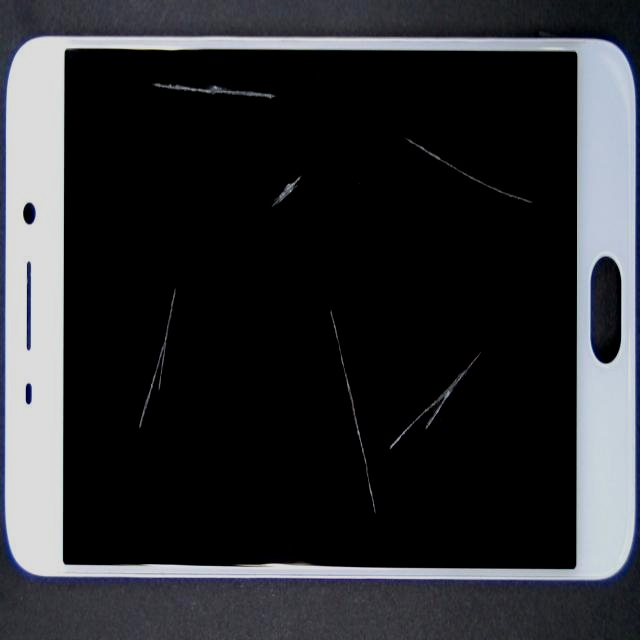scratch: (283, 109, 640, 547), (54, 219, 206, 640), (159, 109, 467, 255), (214, 31, 363, 112)
